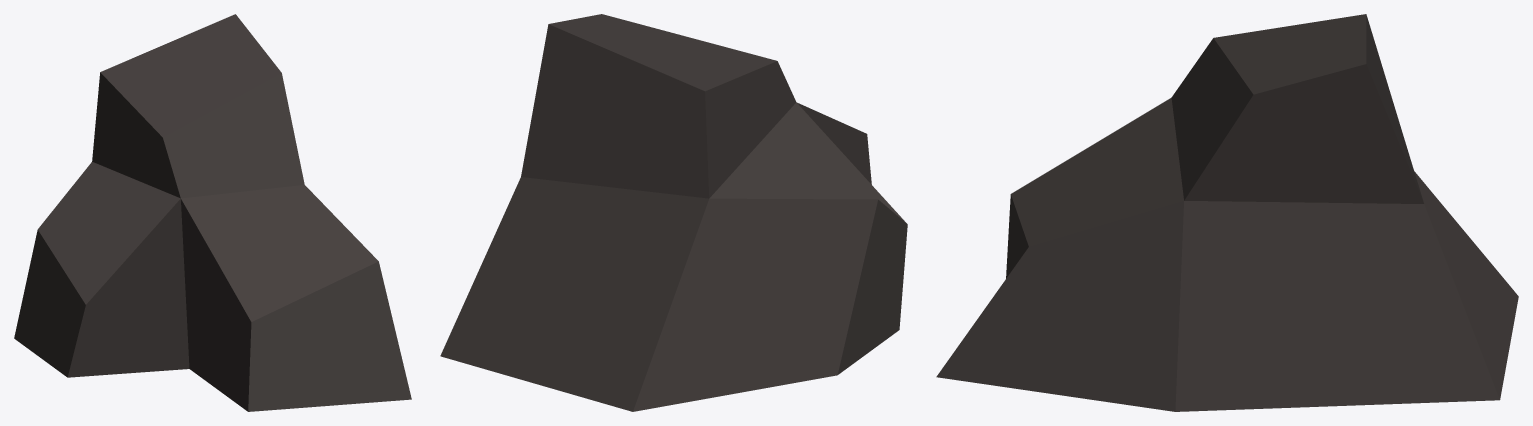
Rendered from rock1.fbx.
The picture shows the model from 3 angles, left to right: view 1: azimuth 30°, elevation 25°; view 2: azimuth 150°, elevation 25°; view 3: azimuth 270°, elevation 25°; orthographic projection. The views are drawn at different scales.
Parts seen in each view (by area): view 1: rock1; view 2: rock1; view 3: rock1.
Boxes of the visible parts, x1,y1,x2,y2 form: rock1: (14,14,411,411); rock1: (440,14,907,411); rock1: (936,14,1518,411).
Size of the model in its own units: 115 by 94.01 by 159.
